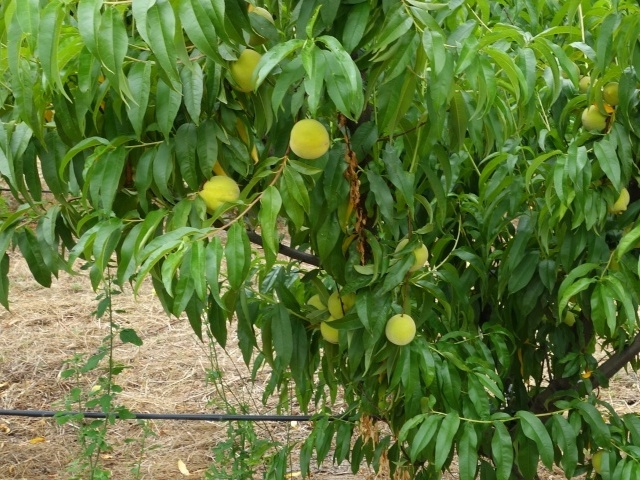peach: (219, 46, 268, 96), (286, 115, 333, 162), (197, 173, 241, 217), (383, 311, 418, 348), (395, 237, 430, 271), (324, 285, 359, 319), (319, 313, 351, 348), (578, 103, 610, 137), (605, 187, 637, 218), (305, 289, 334, 319), (599, 77, 625, 109), (586, 448, 611, 476)
